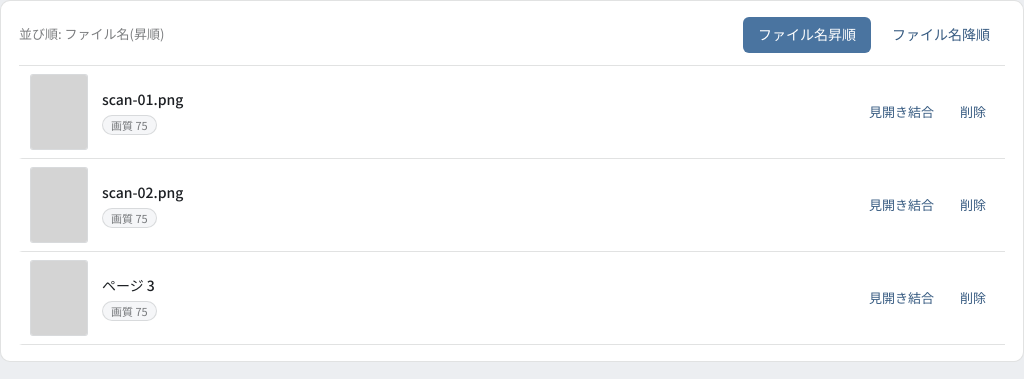
PageList › sorts by file name ascending/descending when the buttons are clicked
This screenshot has width=1024, height=379.
Click the button "ファイル名降順" at (941, 35), box [877,17,1005,53]
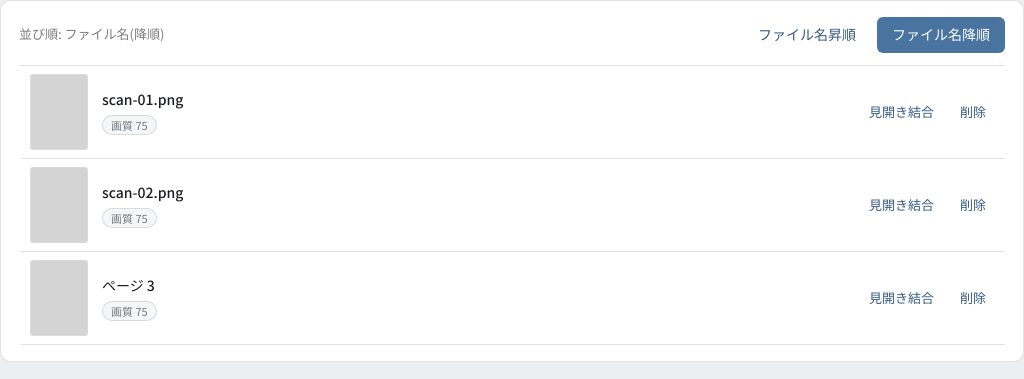
Check: the text with test id "sort-status" shows "ファイル名(降順)", box [64,24,164,43]
Click the button "ファイル名昇順" at (807, 35), box [743,17,871,53]
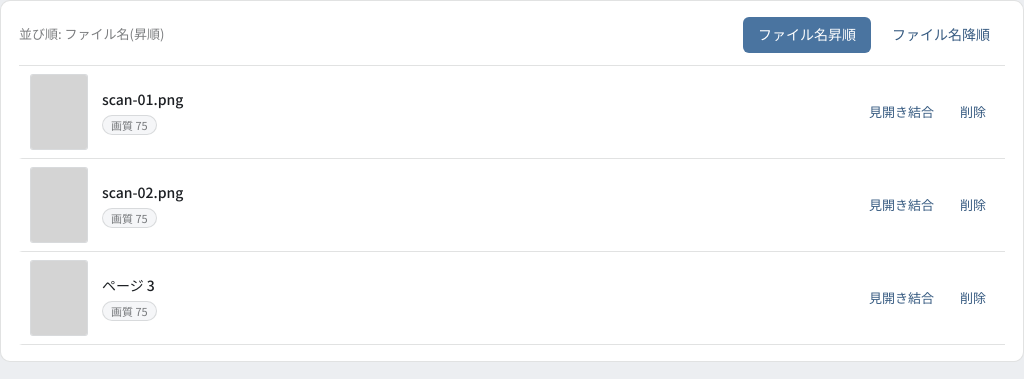
Check: the text with test id "sort-status" shows "ファイル名(昇順)", box [64,24,164,43]
